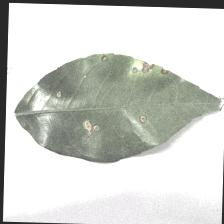canker: (103, 49, 183, 85)
